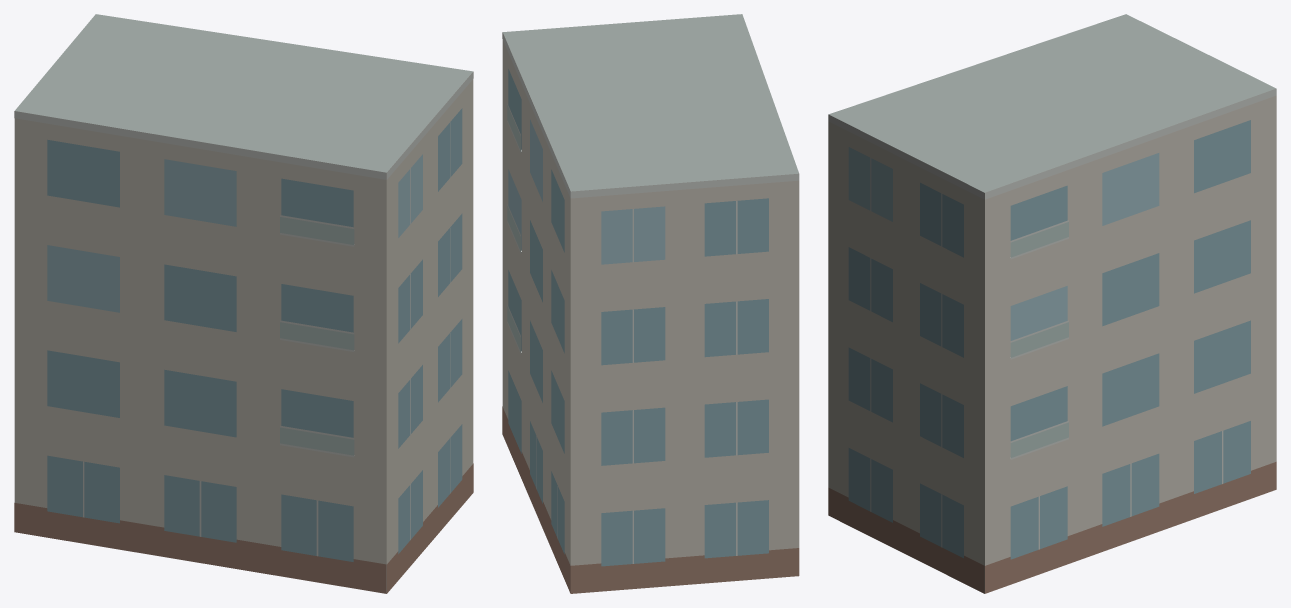
The model's file is survey-upis-32731004.glb.
3 renders of one model, left to right at view 1: azimuth 30°, elevation 25°; view 2: azimuth 150°, elevation 25°; view 3: azimuth 270°, elevation 25°, orthographic. The views are drawn at different scales.
Visible parts, largest first — view 1: survey-upis-32731004.tmp; view 2: survey-upis-32731004.tmp; view 3: survey-upis-32731004.tmp.
Part boxes in pixels (<box>): survey-upis-32731004.tmp: <box>14,14,473,593</box>; survey-upis-32731004.tmp: <box>502,14,799,593</box>; survey-upis-32731004.tmp: <box>828,14,1276,593</box>.
Bounding box in the file's own units: 13.49 × 14.1 × 14.29.
